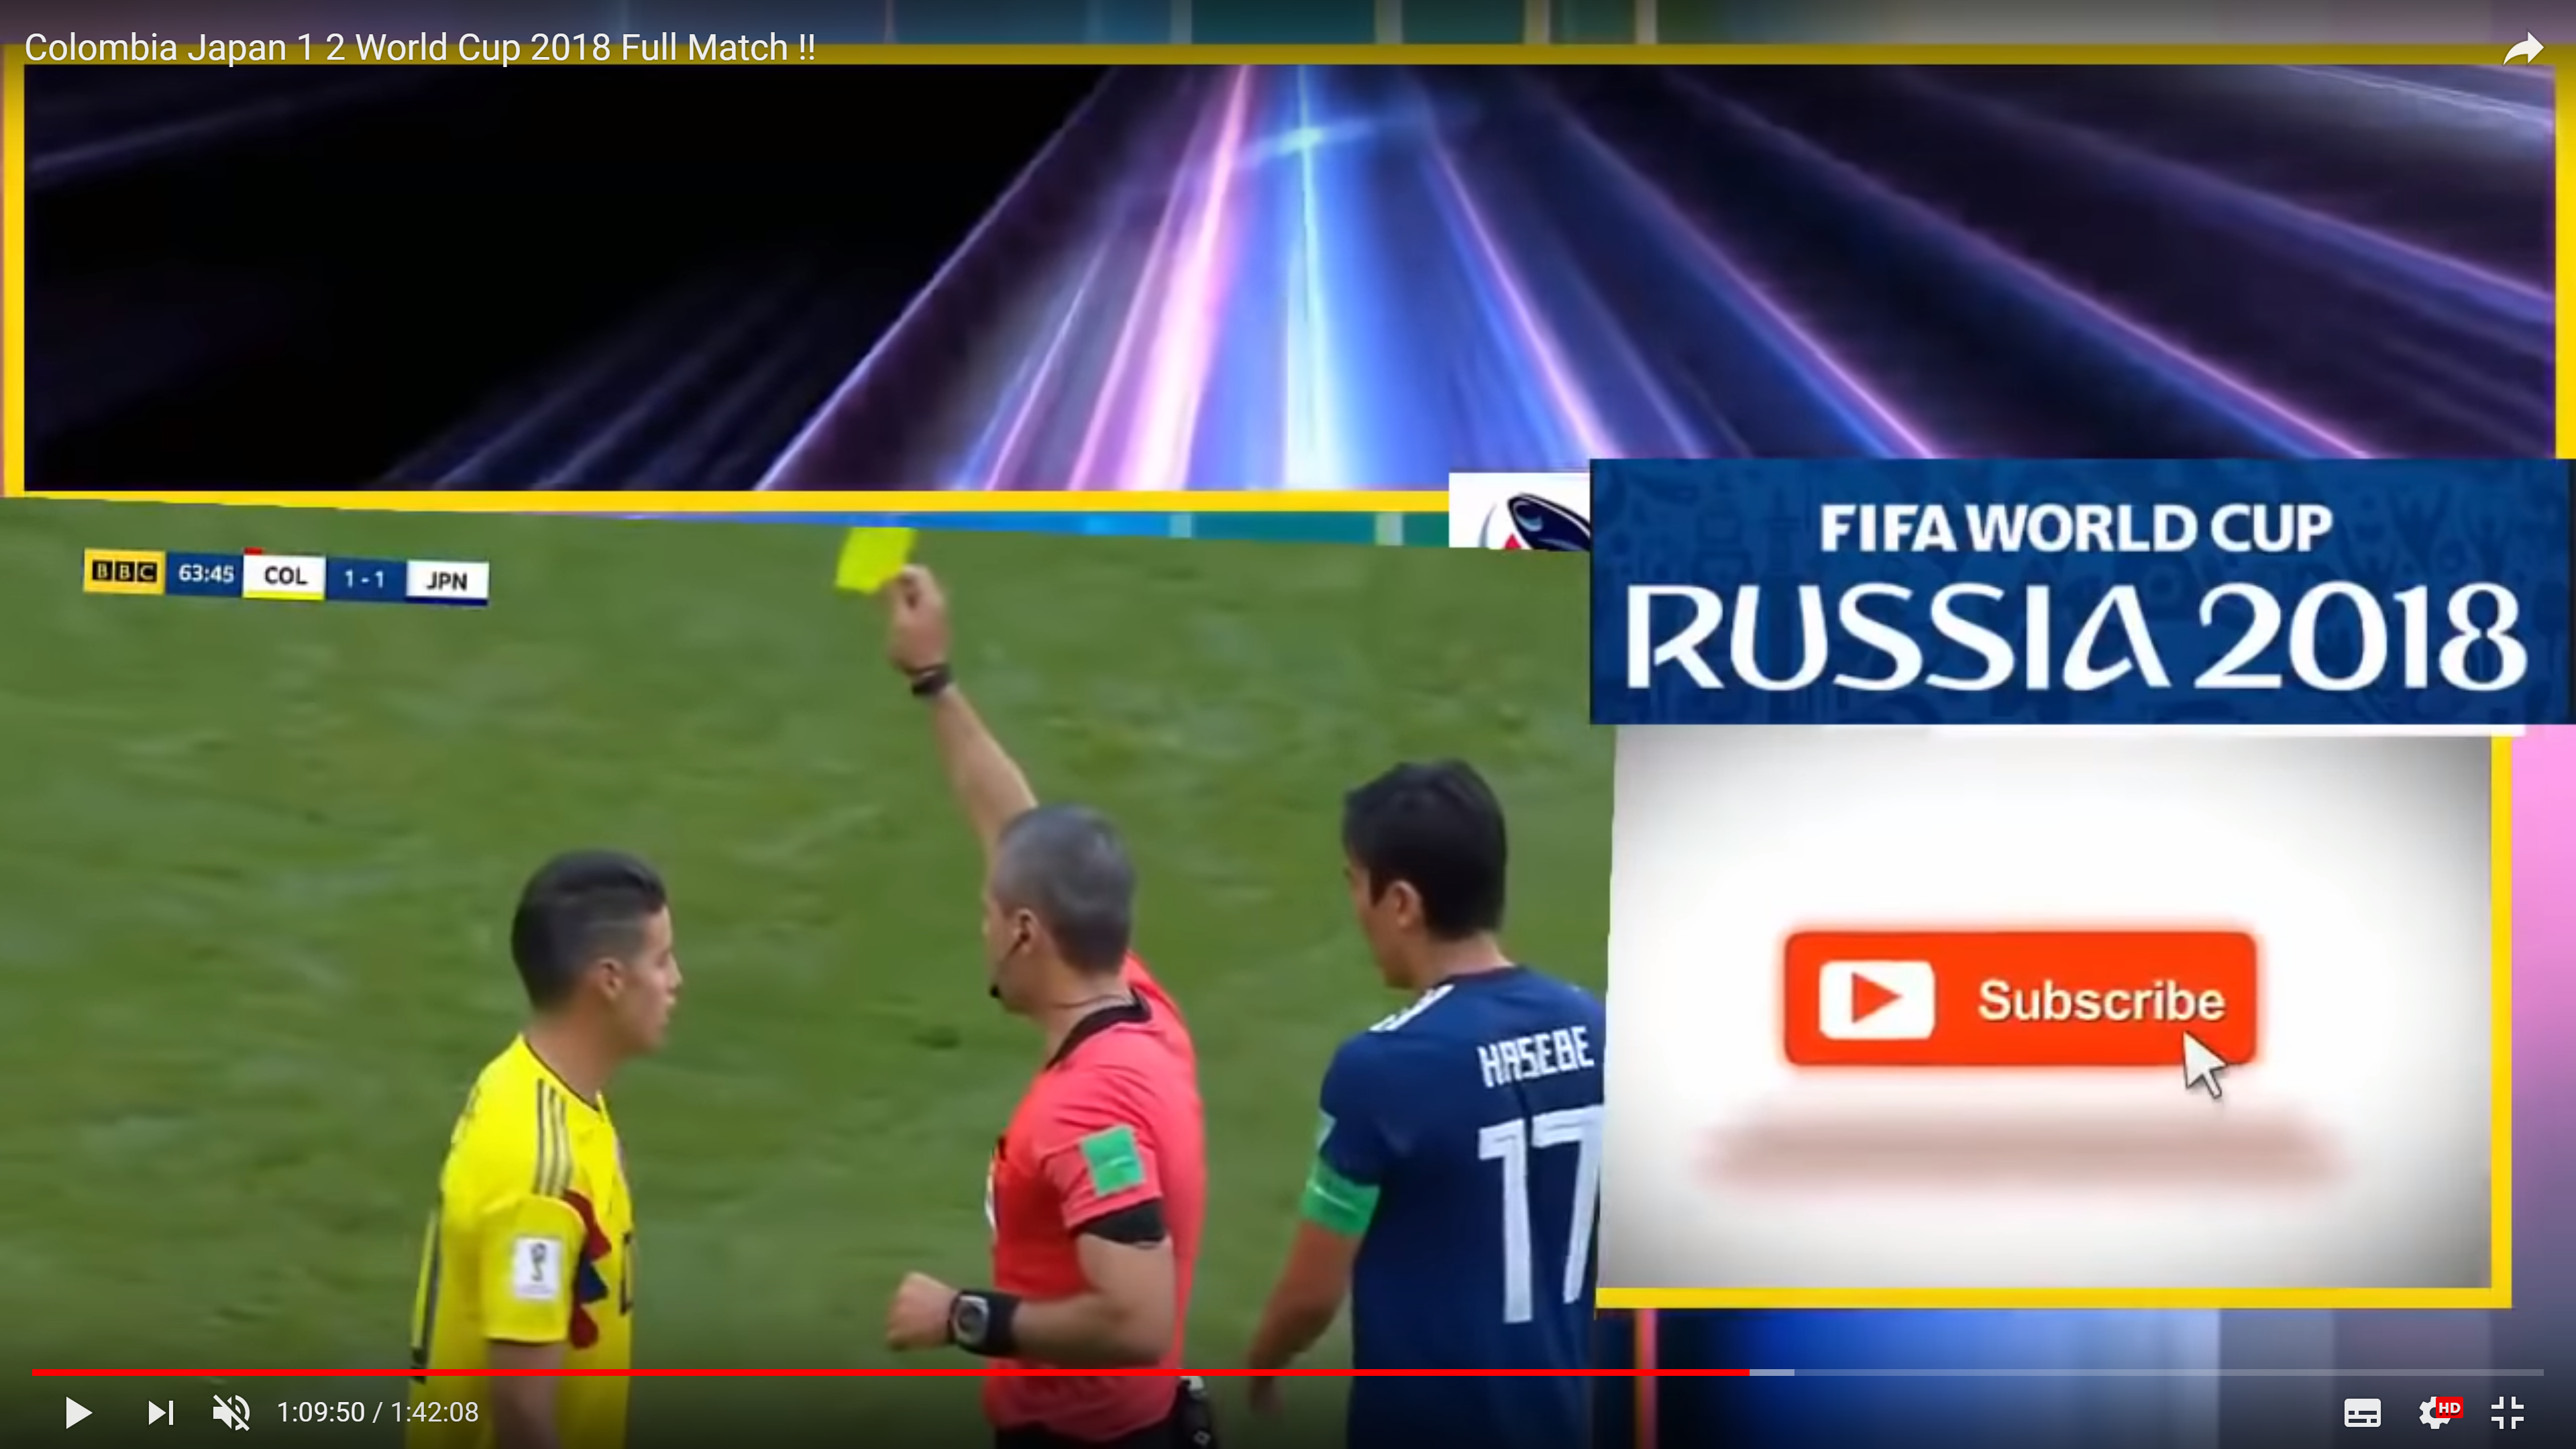yellow_card: (828, 525, 950, 694)
